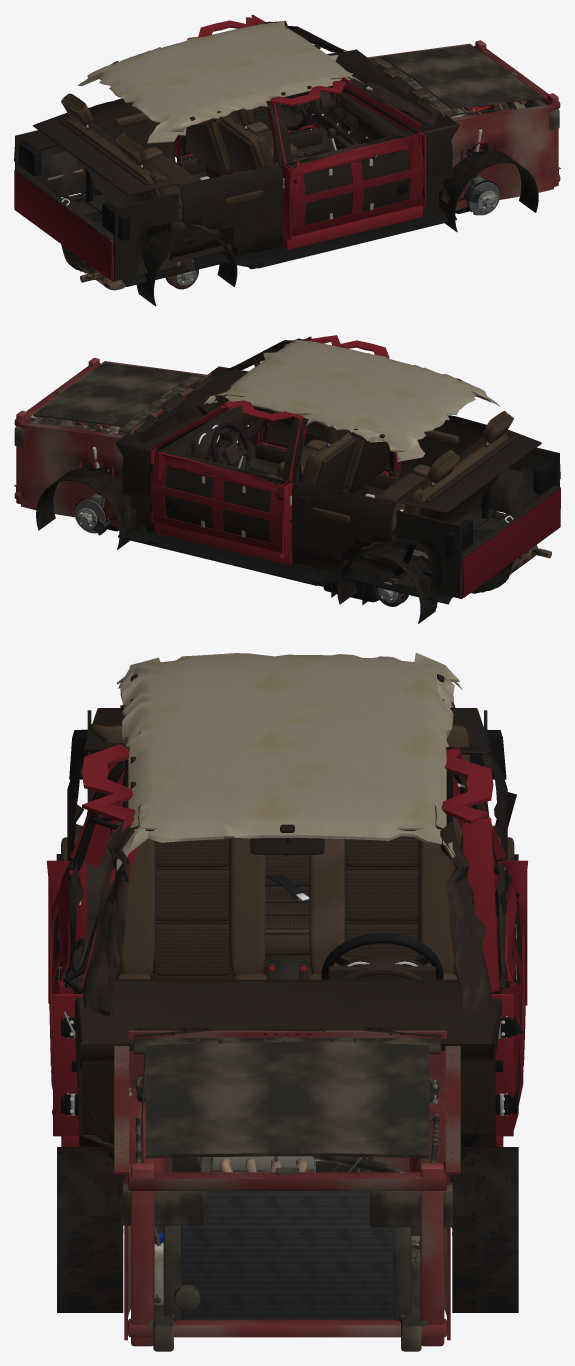
The model's file is hatch-quadrado-v2_completo.glb.
3 renders of one model, top to bottom at view 1: azimuth 30°, elevation 25°; view 2: azimuth 150°, elevation 25°; view 3: azimuth 270°, elevation 25°, orthographic. The views are drawn at different scales.
Visible parts, largest first — view 1: interior_forro_teto, interior_portamalas_carpete, interior_lateral_traseira_dir, engine_paralama_interno_dir, interior_painel, door_card_fr_chapa, hood_manta, interior_banco_traseiro, door_card_fr, under_assoalho, interior_portamalas_tampao, jamb_fr_colunas (+19 smaller); view 2: interior_forro_teto, interior_portamalas_carpete, interior_lateral_traseira_esq, engine_paralama_interno_esq, interior_painel, door_card_fl_chapa, hood_manta, interior_banco_traseiro, door_card_fl, under_assoalho, interior_portamalas_tampao, interior_acabamento_colunas (+19 smaller); view 3: interior_forro_teto, hood_manta, interior_painel, engine_radiador, engine_travessa, interior_banco_dianteiro_dir, interior_banco_dianteiro_esq, under_caixa_roda_fl, under_caixa_roda_fr, interior_acabamento_colunas, jamb_fl_colunas, jamb_fr_colunas (+22 smaller).
Part boxes in pixels (x1,y1,x2,y2): interior_forro_teto: [78, 20, 372, 143]; interior_portamalas_carpete: [14, 130, 178, 281]; interior_lateral_traseira_dir: [177, 161, 282, 270]; engine_paralama_interno_dir: [451, 104, 556, 210]; interior_painel: [305, 49, 460, 176]; door_card_fr_chapa: [286, 131, 425, 237]; hood_manta: [381, 45, 541, 111]; interior_banco_traseiro: [59, 93, 219, 249]; door_card_fr: [287, 132, 418, 225]; under_assoalho: [75, 199, 456, 286]; interior_portamalas_tampao: [33, 112, 179, 195]; jamb_fr_colunas: [267, 77, 425, 240]; interior_forro_teto: [204, 339, 500, 461]; interior_portamalas_carpete: [396, 447, 560, 598]; interior_lateral_traseira_esq: [292, 480, 398, 572]; engine_paralama_interno_esq: [18, 421, 124, 527]; interior_painel: [115, 366, 273, 493]; door_card_fl_chapa: [150, 449, 288, 558]; hood_manta: [33, 363, 193, 428]; interior_banco_traseiro: [361, 411, 515, 564]; door_card_fl: [156, 449, 286, 542]; under_assoalho: [118, 516, 499, 604]; interior_portamalas_tampao: [395, 429, 541, 512]; interior_acabamento_colunas: [137, 338, 308, 483]; interior_forro_teto: [116, 652, 462, 871]; hood_manta: [145, 1042, 429, 1158]; interior_painel: [75, 954, 501, 1134]; engine_radiador: [163, 1172, 411, 1321]; engine_travessa: [122, 1157, 452, 1346]; interior_banco_dianteiro_dir: [117, 837, 275, 979]; interior_banco_dianteiro_esq: [299, 819, 457, 979]; under_caixa_roda_fl: [452, 1147, 518, 1312]; under_caixa_roda_fr: [57, 1147, 123, 1312]; interior_acabamento_colunas: [72, 745, 498, 1015]; jamb_fl_colunas: [441, 747, 513, 1136]; jamb_fr_colunas: [48, 744, 137, 1136].
Size of what is drawn, in the model's own units: 3.66 by 1.37 by 1.61.
Materials: 53 (53 with a texture image).
